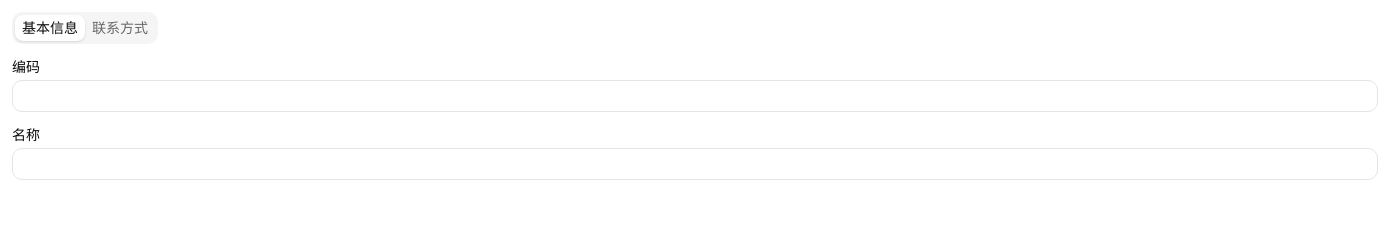
Test: SubformTabs › renders a textarea value from the value prop
This screenshot has width=1390, height=229.
Click the tab "联系方式".
click(120, 28)  # box [85,15,155,41]
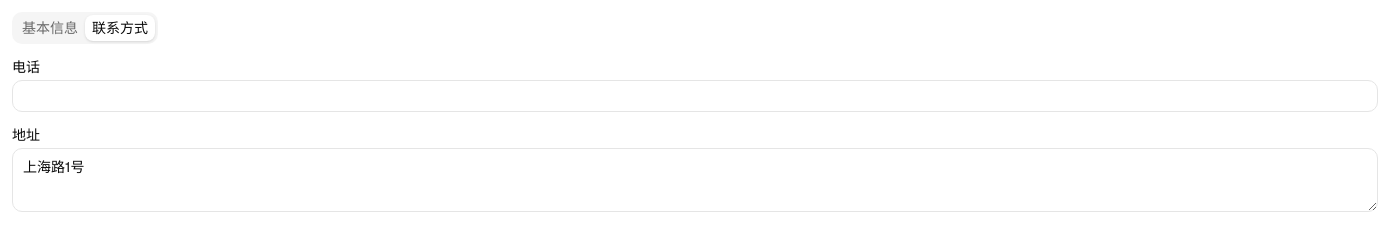
Now the text box labelled "地址" holds "上海路1号", box [12,148,1378,212]
